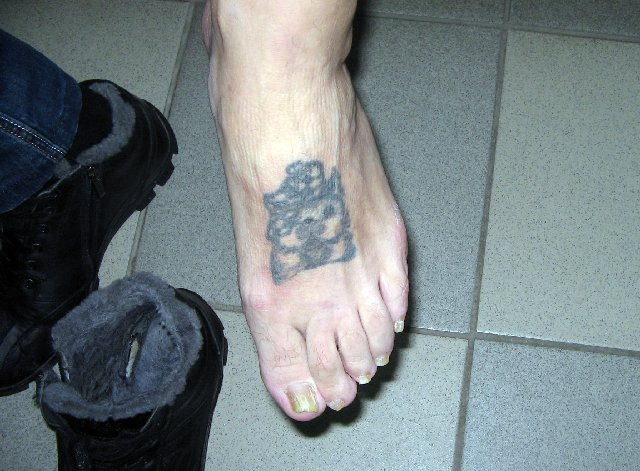tatu8_kot: (249, 152, 366, 276)
